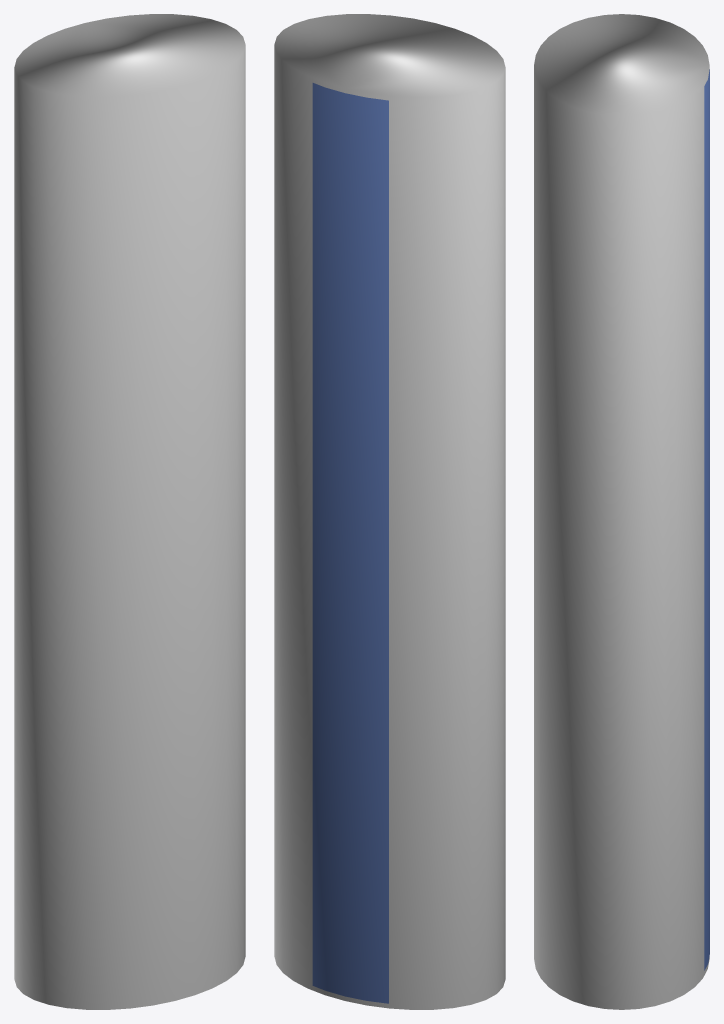
The model's file is CapacityMeter.fbx.
The picture shows the model from 3 angles, left to right: view 1: azimuth 30°, elevation 25°; view 2: azimuth 150°, elevation 25°; view 3: azimuth 270°, elevation 25°; orthographic projection. The views are drawn at different scales.
Parts seen in each view (by area): view 1: Cylinder.001; view 2: Cylinder.001, Cylinder.002; view 3: Cylinder.001, Cylinder.002.
Boxes of the visible parts, bbox=[...] form: Cylinder.001: bbox=[14, 14, 245, 1009]; Cylinder.001: bbox=[274, 14, 505, 1009]; Cylinder.002: bbox=[312, 83, 388, 1003]; Cylinder.001: bbox=[534, 14, 709, 1009]; Cylinder.002: bbox=[704, 69, 709, 970].
Bounding box in the file's own units: 100 × 409 × 72.98.
